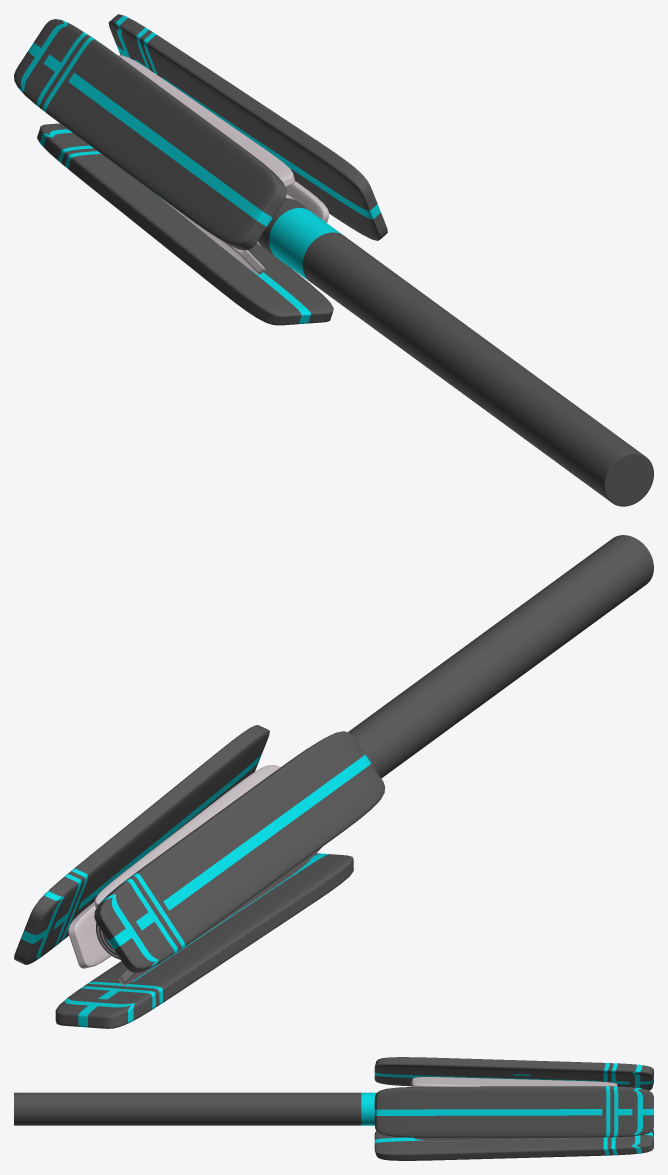
Rendered from Gun.fbx.
3 views of the same model, one above another, from view 1: azimuth 30°, elevation 25°; view 2: azimuth 150°, elevation 25°; view 3: azimuth 270°, elevation 25° (orthographic). The views are drawn at different scales.
Visible parts, largest first — view 1: Cube.001, Cylinder.010, Cube; view 2: Cube.001, Cylinder.010, Cube; view 3: Cube.001, Cylinder.010, Cube.
Boxes of the visible parts, bbox=[...] form: Cube.001: bbox=[14, 14, 387, 325]; Cylinder.010: bbox=[257, 194, 653, 506]; Cube: bbox=[118, 55, 328, 274]; Cube.001: bbox=[14, 725, 384, 1028]; Cylinder.010: bbox=[96, 535, 653, 959]; Cube: bbox=[68, 765, 321, 985]; Cube.001: bbox=[374, 1057, 653, 1160]; Cylinder.010: bbox=[14, 1092, 376, 1125]; Cube: bbox=[411, 1077, 617, 1140].
Bounding box in the file's own units: 53.2 × 50.69 × 331.
